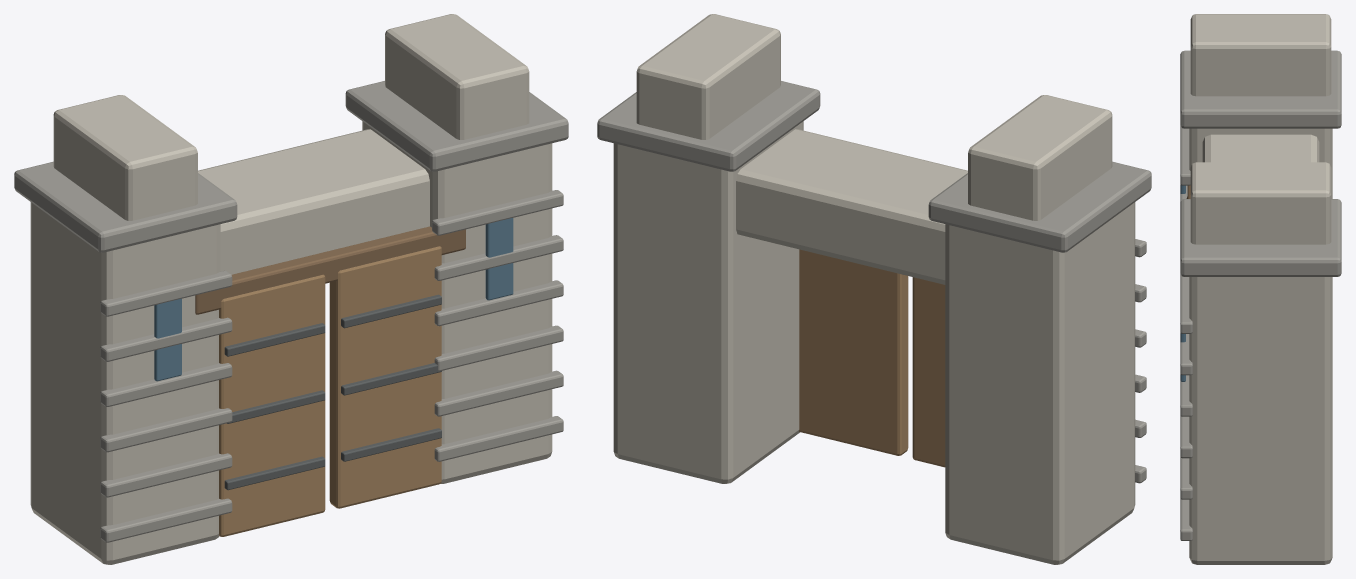
Rendered from Valoria_Authored_Gate_v1.glb.
3 renders of one model, left to right at view 1: azimuth 30°, elevation 25°; view 2: azimuth 150°, elevation 25°; view 3: azimuth 270°, elevation 25°, orthographic. The views are drawn at different scales.
Visible parts, largest first — view 1: pier_-1.65, door_0.58, pier_1.65, gate_lintel, door_-0.58, pier_merlon_-1.65, pier_merlon_1.65, pier_cap_1.65, pier_cap_-1.65, gate_crossbeam, pier_band_-1.65_2.5, pier_band_1.65_2.5 (+18 smaller); view 2: pier_-1.65, pier_1.65, gate_lintel, door_0.58, pier_merlon_-1.65, pier_merlon_1.65, pier_cap_1.65, pier_cap_-1.65, door_-0.58; view 3: pier_1.65, pier_merlon_-1.65, pier_merlon_1.65, pier_cap_-1.65, pier_cap_1.65, gate_lintel, pier_-1.65, pier_band_1.65_2.5, pier_band_-1.65_2.5, pier_band_1.65_1.21, pier_band_1.65_0.35, pier_band_1.65_0.78 (+2 smaller).
Part boxes in pixels (<box>): pier_-1.65: <box>30,202,220,564</box>; door_0.58: <box>329,246,441,508</box>; pier_1.65: <box>362,121,552,483</box>; gate_lintel: <box>198,129,429,274</box>; door_-0.58: <box>219,274,325,536</box>; pier_merlon_-1.65: <box>53,95,197,220</box>; pier_merlon_1.65: <box>385,14,529,139</box>; pier_cap_1.65: <box>345,81,568,171</box>; pier_cap_-1.65: <box>14,161,237,252</box>; gate_crossbeam: <box>195,226,465,314</box>; pier_band_-1.65_2.5: <box>100,270,232,316</box>; pier_band_1.65_2.5: <box>432,190,563,235</box>; pier_-1.65: <box>945,202,1135,564</box>; pier_1.65: <box>613,121,803,483</box>; gate_lintel: <box>736,129,967,284</box>; door_0.58: <box>799,249,908,455</box>; pier_merlon_-1.65: <box>968,95,1112,220</box>; pier_merlon_1.65: <box>636,14,780,139</box>; pier_cap_1.65: <box>597,81,820,171</box>; pier_cap_-1.65: <box>928,161,1151,252</box>; door_-0.58: <box>912,277,945,467</box>; pier_1.65: <box>1189,277,1332,564</box>; pier_merlon_-1.65: <box>1190,14,1331,96</box>; pier_merlon_1.65: <box>1190,162,1331,244</box>; pier_cap_-1.65: <box>1180,50,1341,128</box>; pier_cap_1.65: <box>1180,199,1341,276</box>; gate_lintel: <box>1202,134,1319,162</box>; pier_-1.65: <box>1189,128,1332,198</box>; pier_band_1.65_2.5: <box>1180,274,1192,333</box>; pier_band_-1.65_2.5: <box>1180,125,1190,185</box>; pier_band_1.65_1.21: <box>1180,415,1192,458</box>; pier_band_1.65_0.35: <box>1180,498,1192,540</box>; pier_band_1.65_0.78: <box>1180,457,1192,499</box>.
Bounding box in the file's own units: 4.68 × 3.79 × 1.52.
